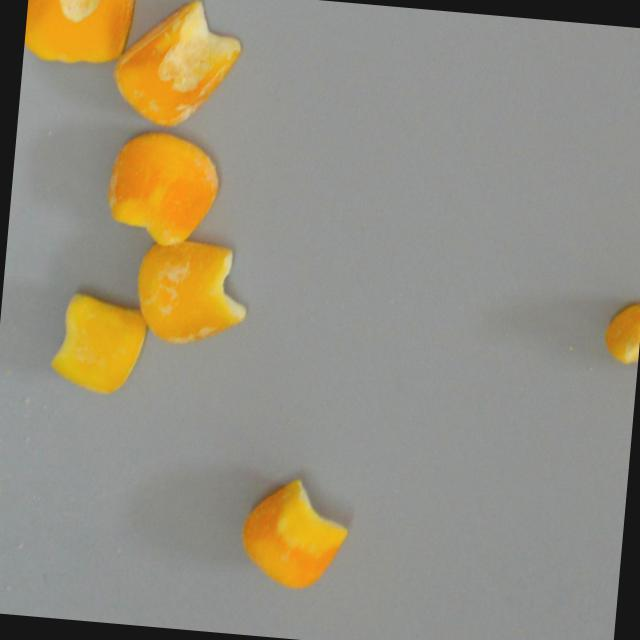no_canjicado: (236, 472, 351, 592)
pelicula: (98, 125, 223, 252), (129, 236, 251, 349), (125, 0, 226, 130), (39, 285, 152, 399), (21, 0, 133, 74), (599, 298, 640, 381)
